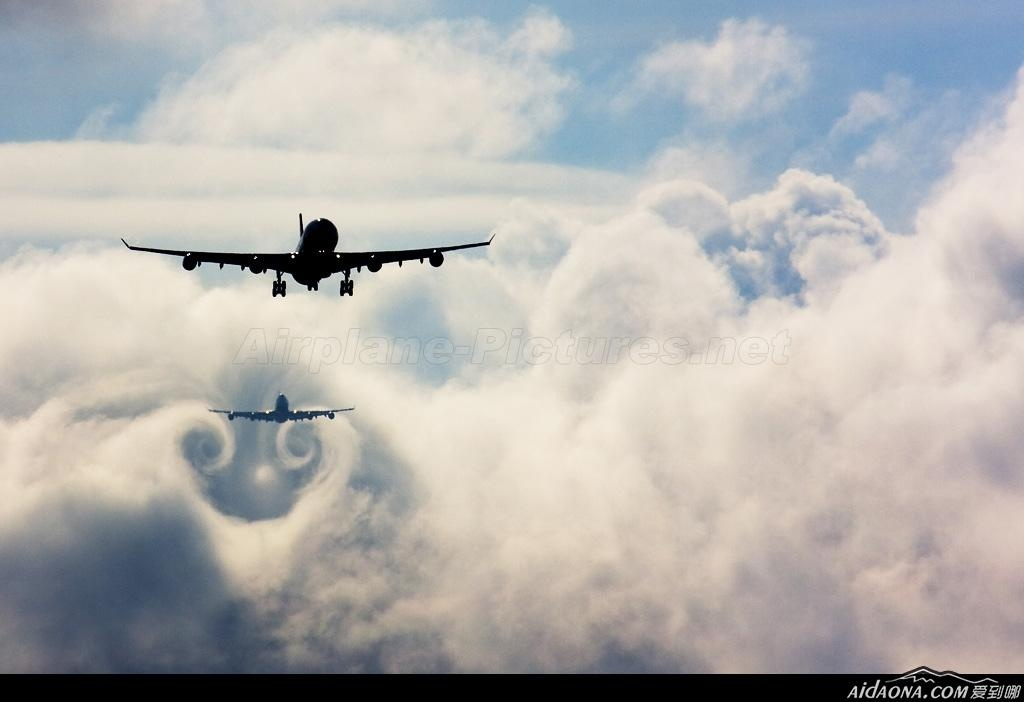airplane: (110, 212, 503, 300), (198, 387, 363, 430)
